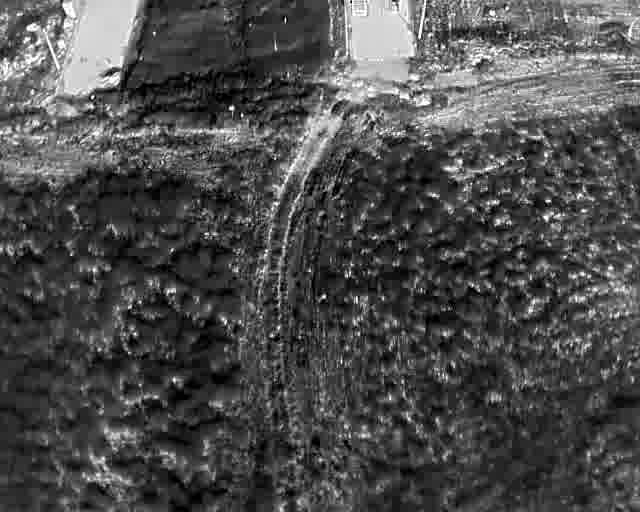car: (349, 0, 369, 17), (386, 0, 403, 12)
person: (377, 6, 381, 16), (382, 6, 386, 16), (404, 6, 408, 16)
